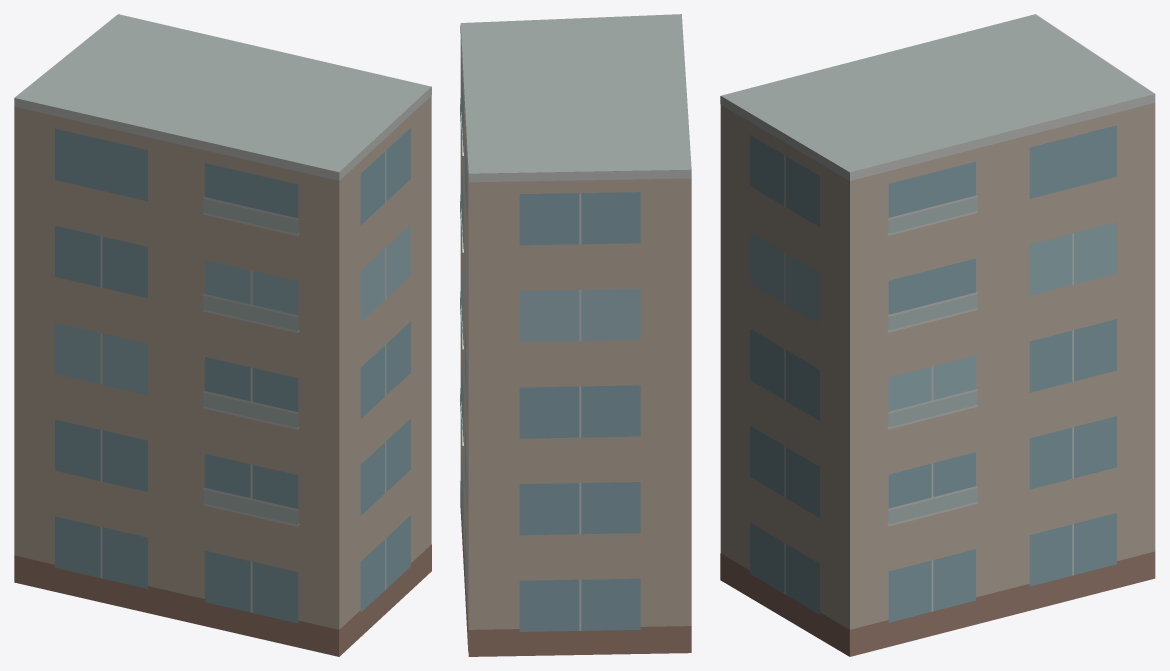
Rendered from survey-upis-32905878.glb.
3 renders of one model, left to right at view 1: azimuth 30°, elevation 25°; view 2: azimuth 150°, elevation 25°; view 3: azimuth 270°, elevation 25°, orthographic.
Visible parts, largest first — view 1: survey-upis-32905878.tmp; view 2: survey-upis-32905878.tmp; view 3: survey-upis-32905878.tmp.
Boxes of the visible parts, x1,y1,x2,y2 form: survey-upis-32905878.tmp: (14,14,431,656); survey-upis-32905878.tmp: (460,14,691,656); survey-upis-32905878.tmp: (720,14,1155,656).
Size of the model in its own units: 9.47 by 13.5 by 10.99.
